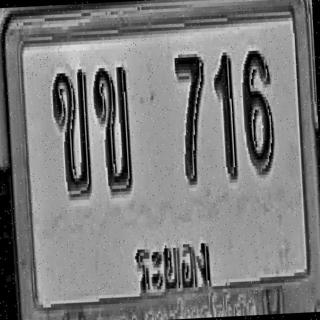A02: (50, 66, 93, 198), (92, 62, 134, 194)
N01: (212, 49, 238, 180)
N06: (240, 45, 276, 174)
N07: (173, 50, 210, 185)
P53: (126, 233, 216, 307)
